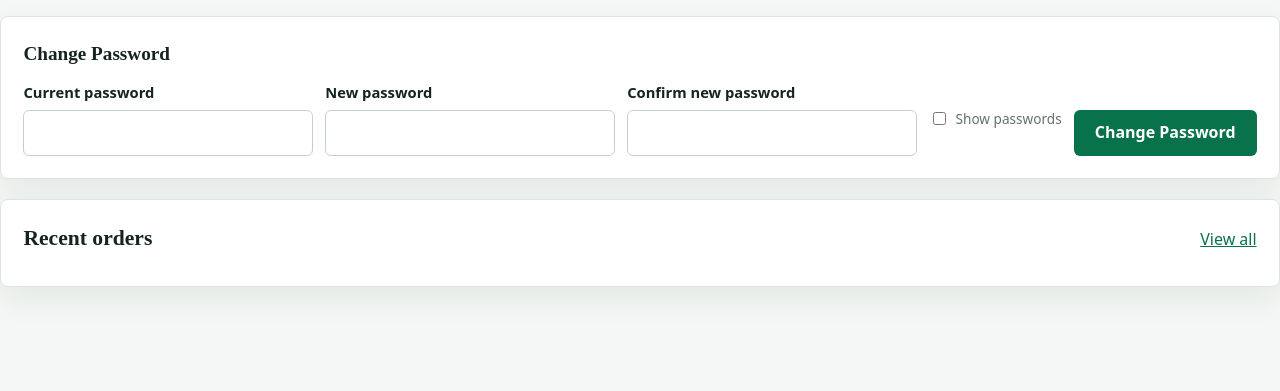
Test: shows a safe API error and allows another attempt
Step 1. Type "WrongPass123" into the password field labelled "Current password" → [168, 132], box [23, 110, 313, 156]
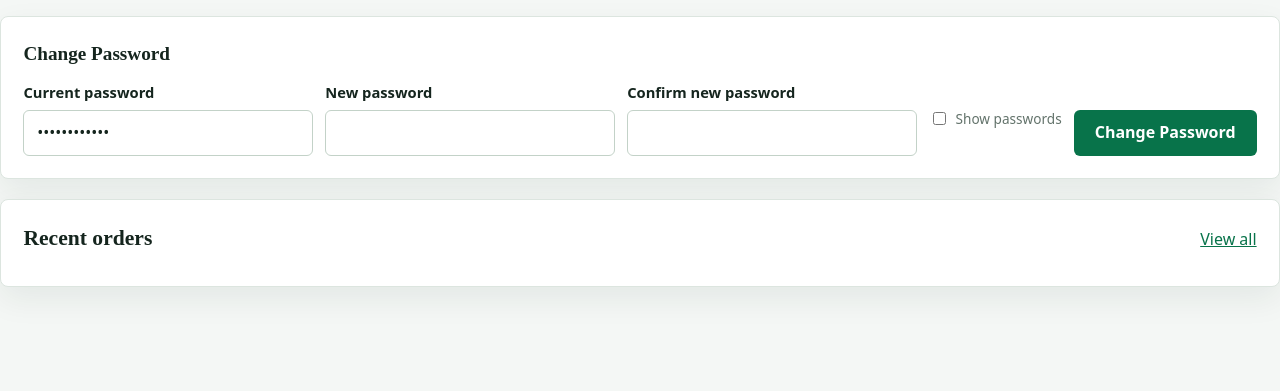
Step 2. Type "NewPass4567" into the password field labelled "New password" → [470, 132], box [325, 110, 615, 156]
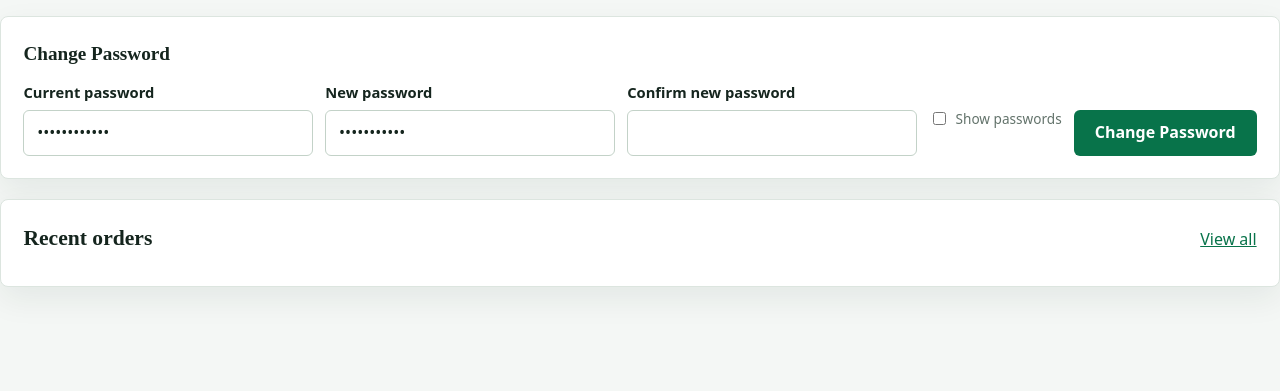
Step 3. Type "NewPass4567" into the password field labelled "Confirm new password" → [772, 132], box [627, 110, 917, 156]
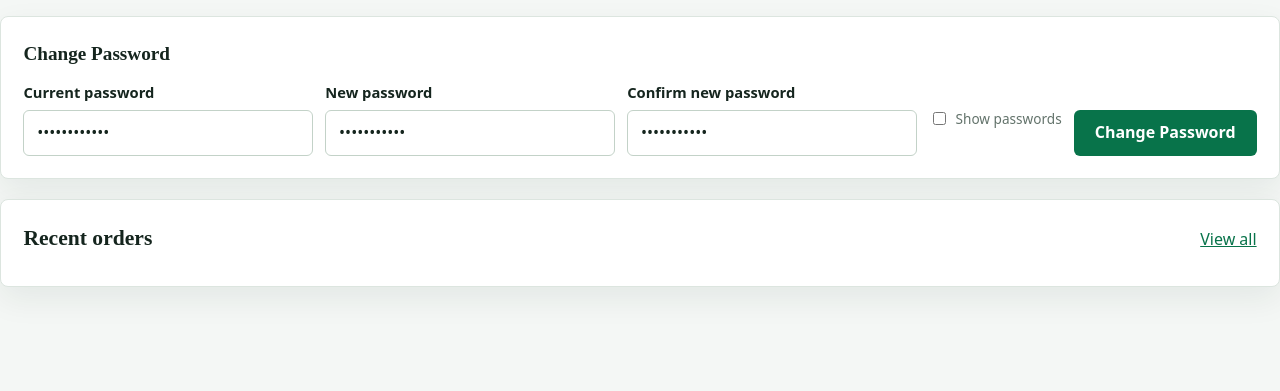
Step 4. Click the button "Change Password" → [1165, 133], box [1074, 110, 1257, 156]
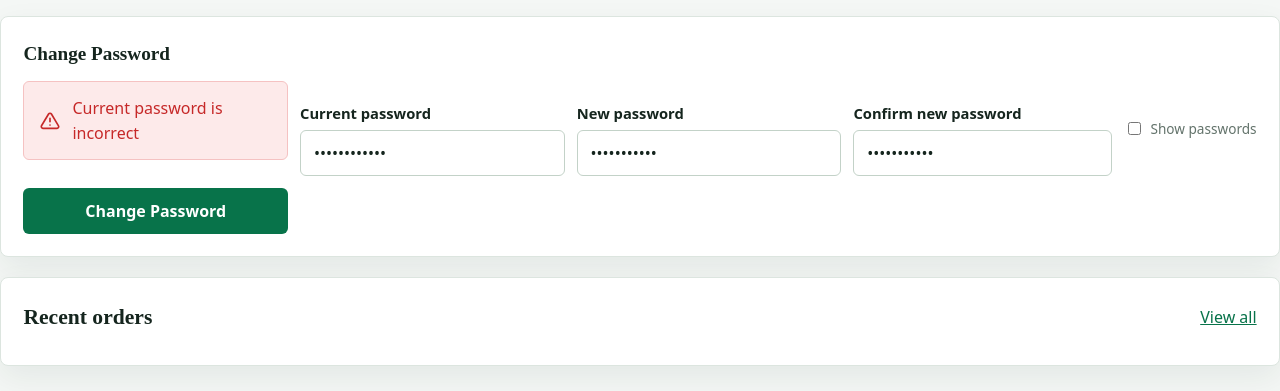
Expected: the button "Change Password" is enabled, [23, 188, 288, 234]
Expected: the message reads "Current password is incorrect", [72, 97, 223, 144]
